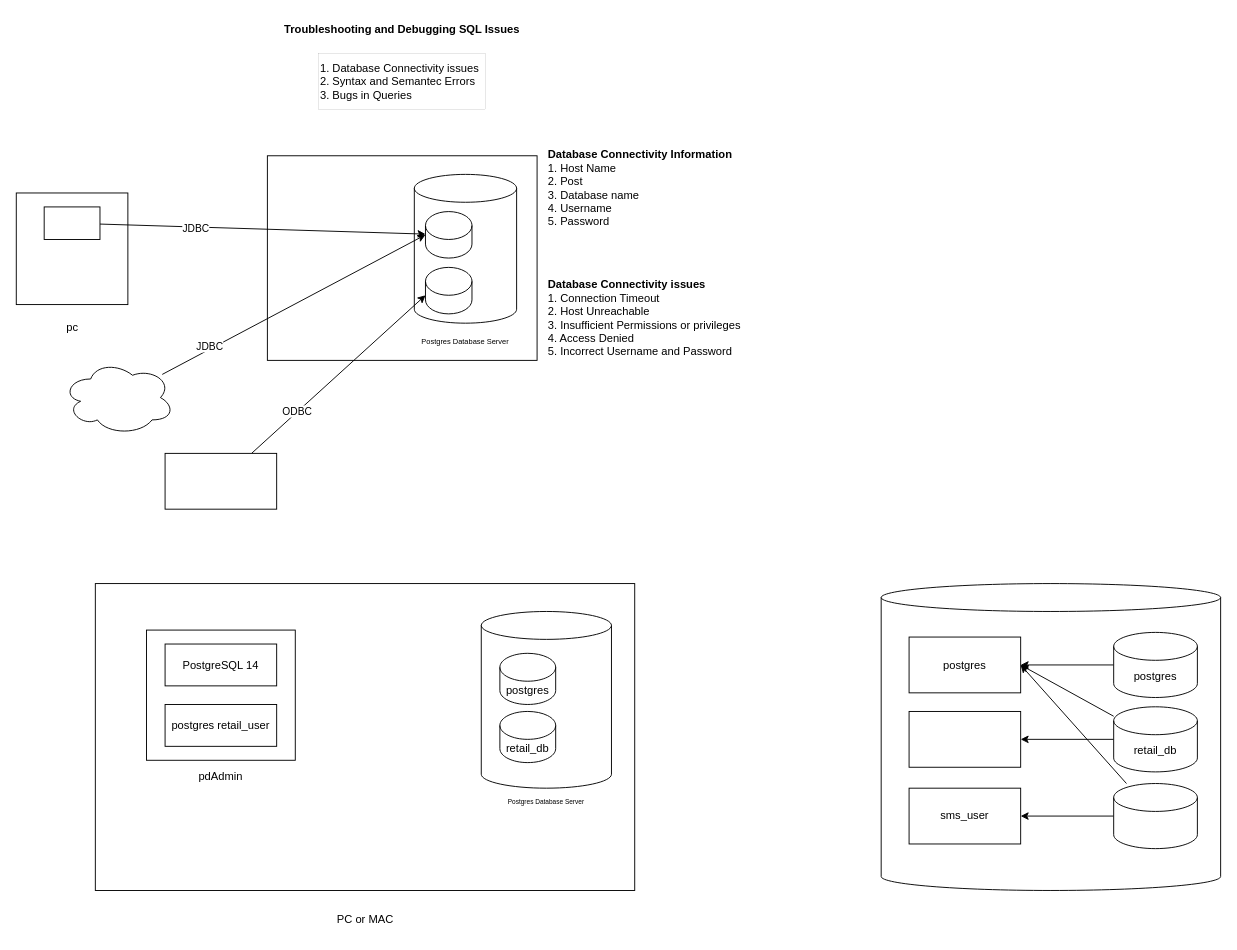
Some shapes in this 1237 by 950 pixel diagram are drawn without their labels. The shapes that lost their labels are listed below. From the top down, each one's centre as x and y in pixels, then its label:
At point 118,397: "App server".
At point 220,480: "Graph".
At point 964,739: "retail_user".
At point 1155,816: "sms_db".
